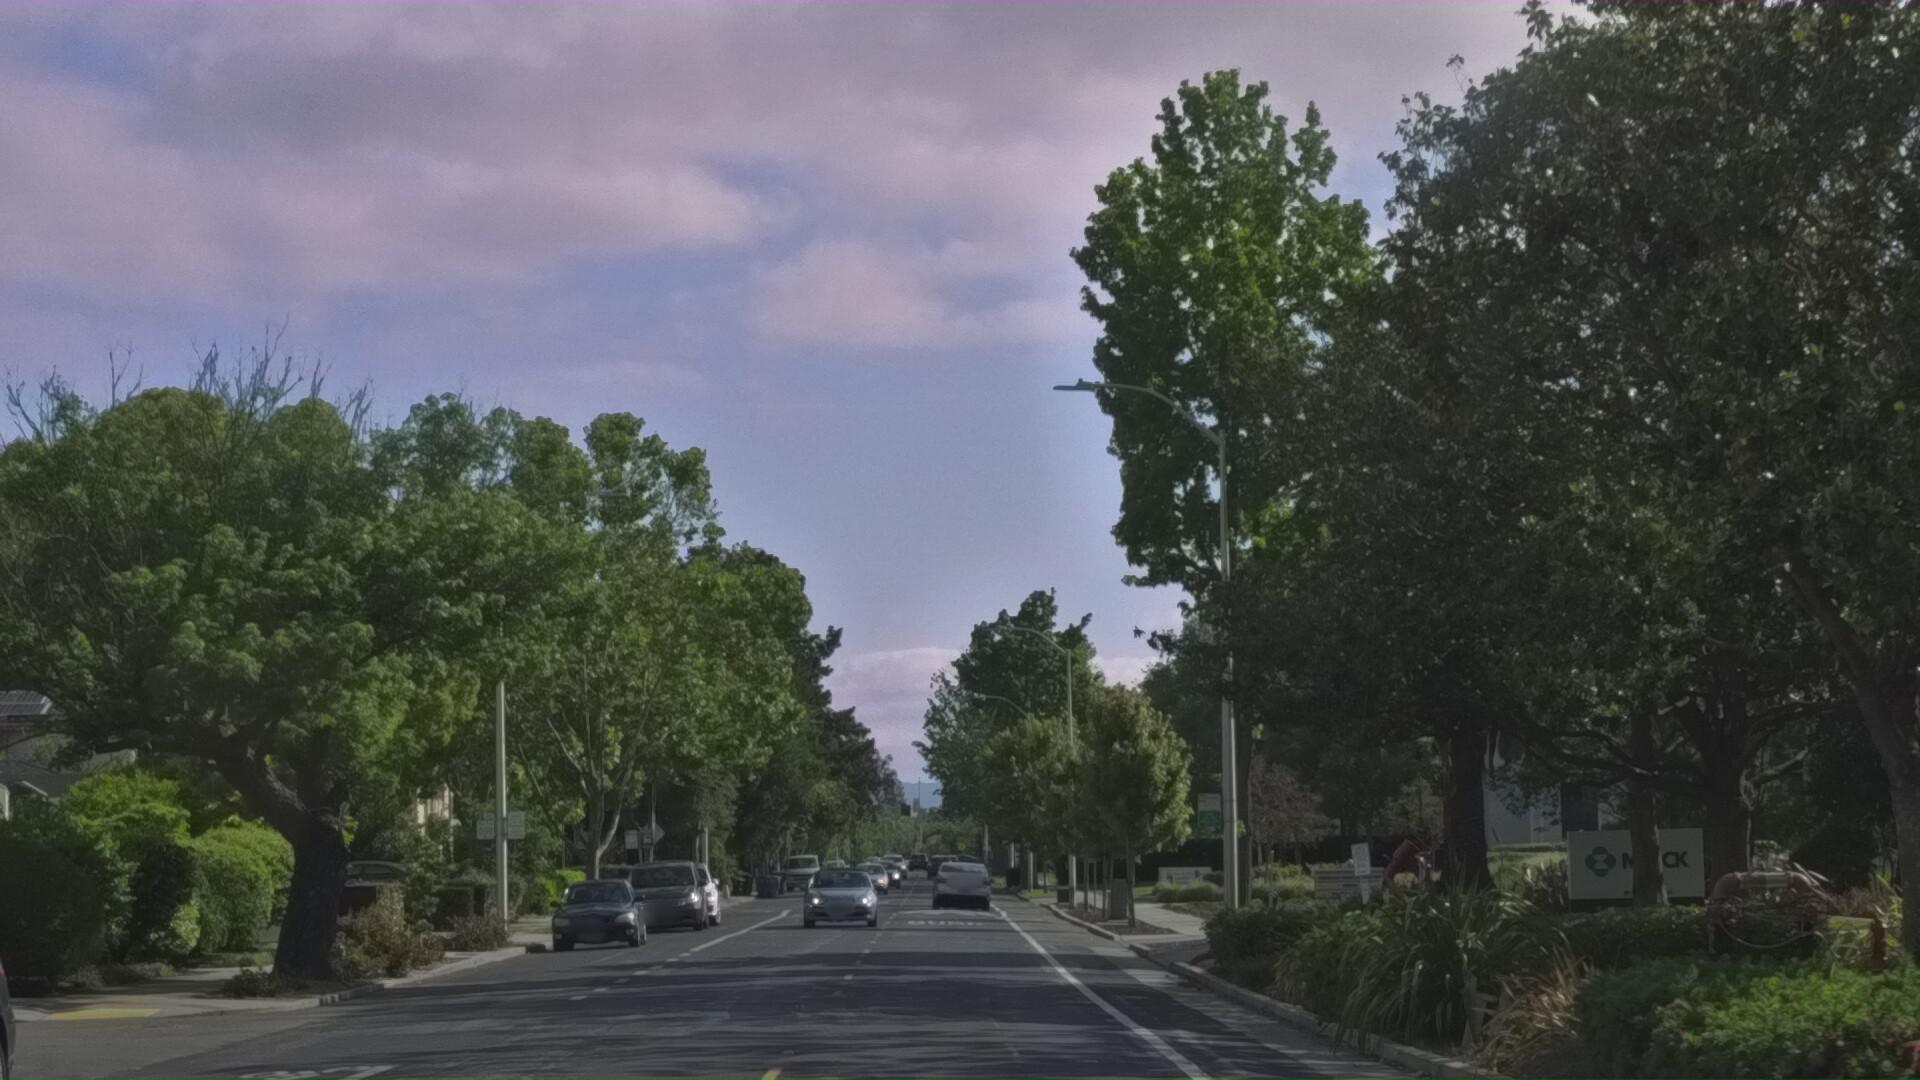car: (549, 964, 655, 1047), (624, 949, 717, 1034), (0, 927, 45, 1080), (795, 953, 873, 1023)
